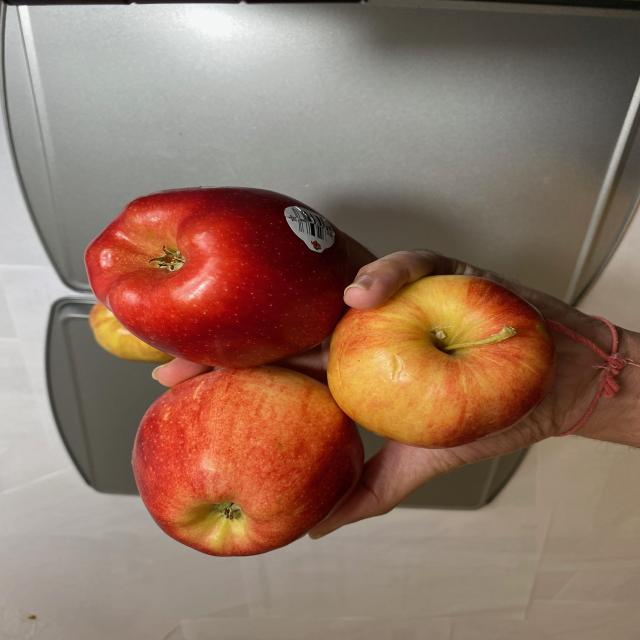apple: (78, 188, 566, 558)
